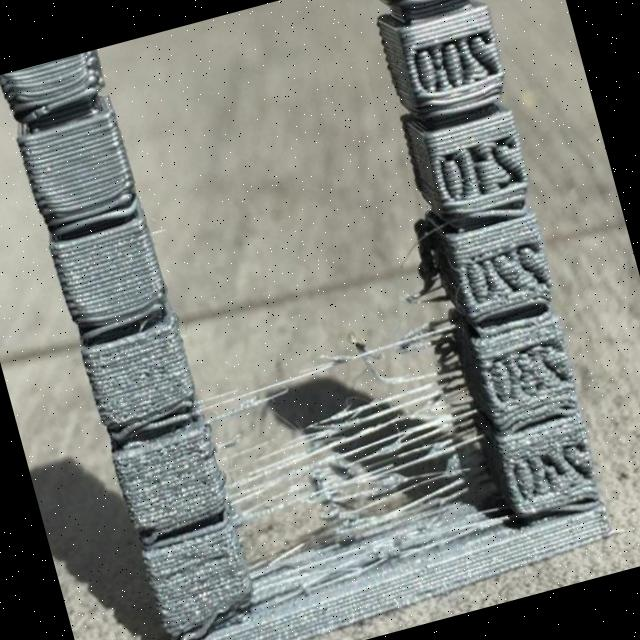stringing: (184, 300, 526, 612), (381, 208, 463, 312)
